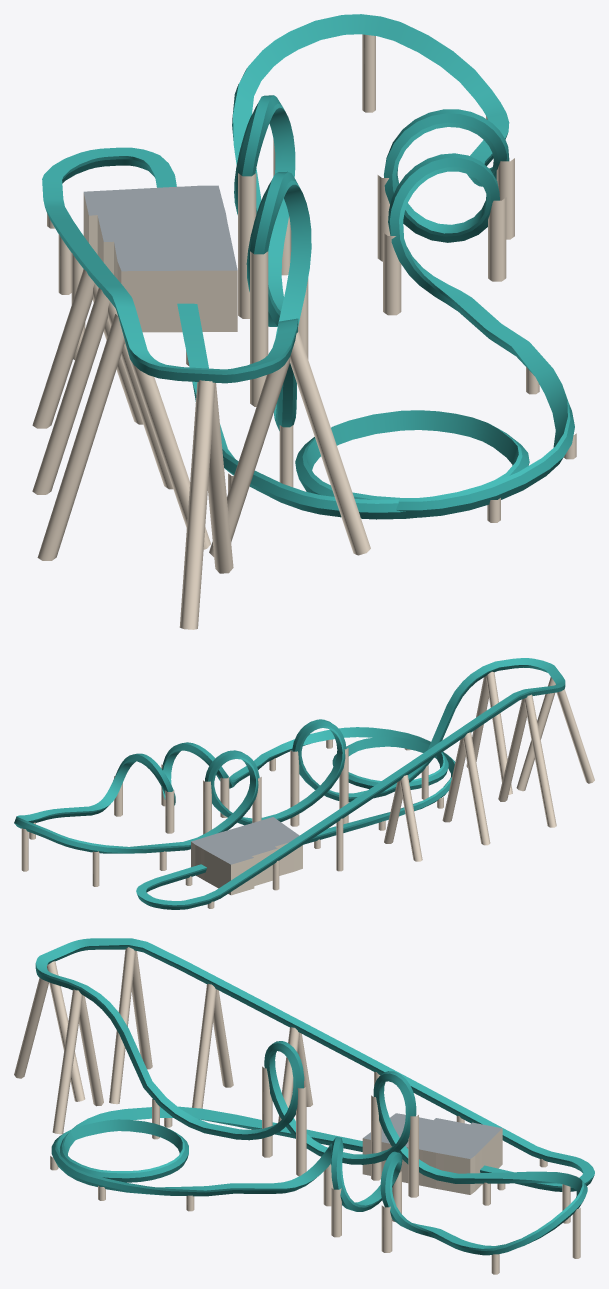
The model's file is detail.glb.
The picture shows the model from 3 angles, top to bottom: view 1: azimuth 30°, elevation 25°; view 2: azimuth 150°, elevation 25°; view 3: azimuth 270°, elevation 25°; orthographic projection. The views are drawn at different scales.
Visible parts, largest first — view 1: carolina-cyclone-carowinds; view 2: carolina-cyclone-carowinds; view 3: carolina-cyclone-carowinds.
Part boxes in pixels (left/top/right/bottom): carolina-cyclone-carowinds: left=32, top=14, right=576, bottom=629; carolina-cyclone-carowinds: left=14, top=658, right=594, bottom=909; carolina-cyclone-carowinds: left=14, top=938, right=594, bottom=1274.
Size of the model in its own units: 95.59 by 29.83 by 108.
